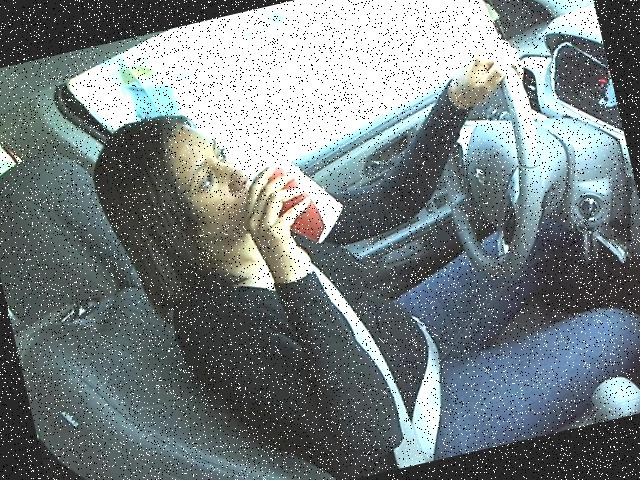c4 - Drinking: (67, 13, 613, 479)
